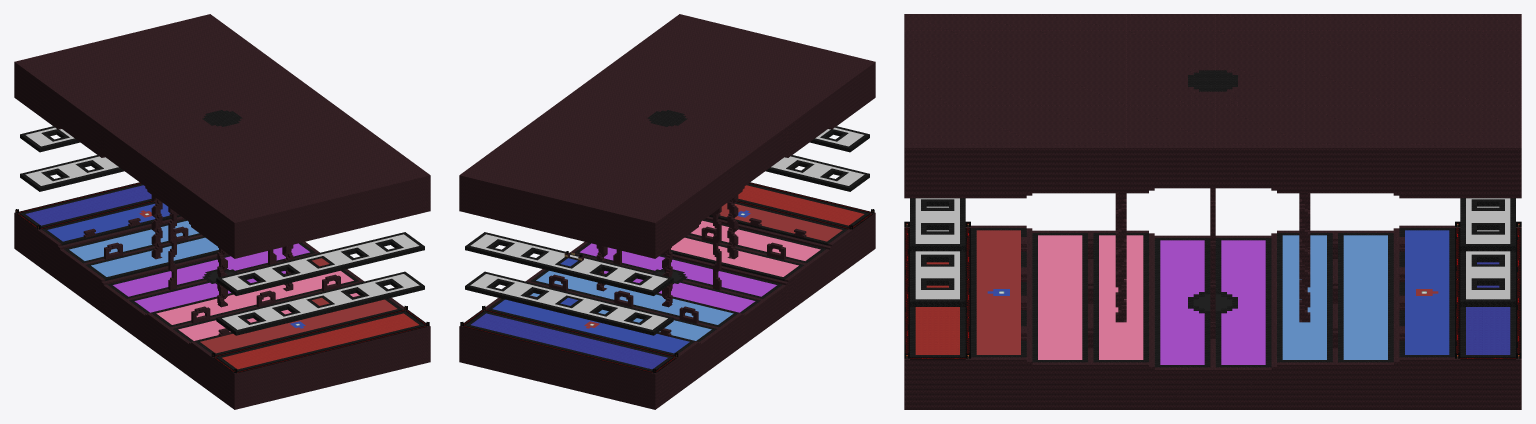
Rendered from minecraft.obj.
3 renders of one model, left to right at view 1: azimuth 30°, elevation 25°; view 2: azimuth 150°, elevation 25°; view 3: azimuth 270°, elevation 25°, orthographic. The views are drawn at different scales.
Bounding box in the file's own units: 57 × 52 × 111.
